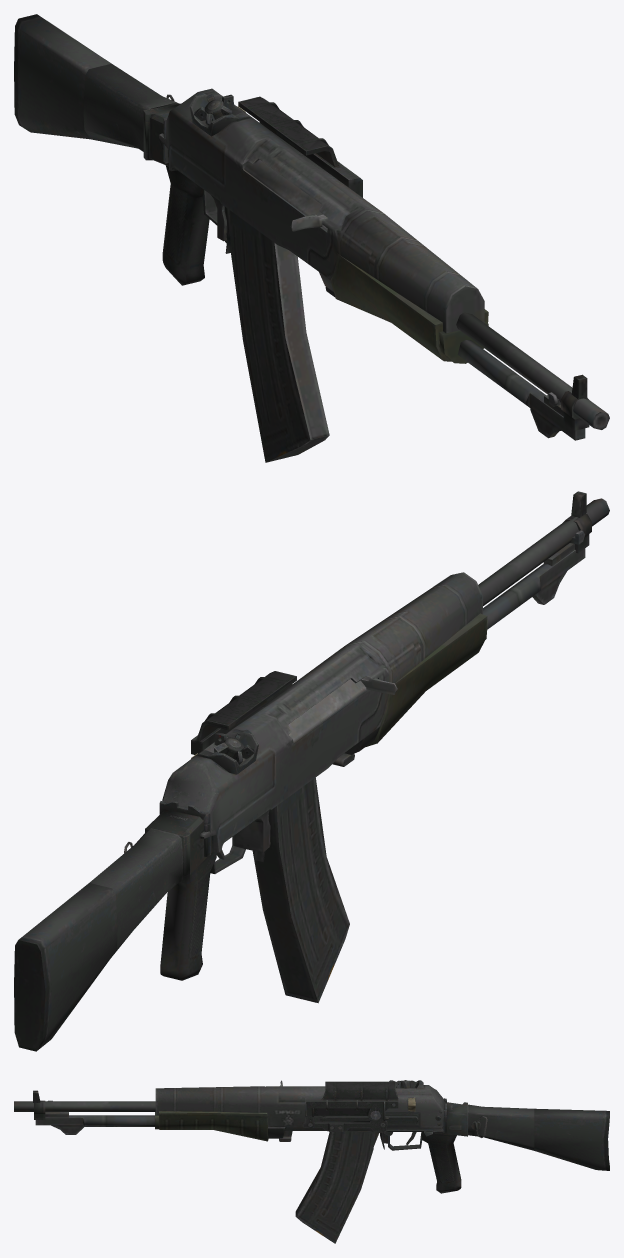
File: Assault_Rifle_pw_1045_AN94_dj_lod0_Body_LOD_(000543).glb
3 views of the same model, one above another, from view 1: azimuth 30°, elevation 25°; view 2: azimuth 150°, elevation 25°; view 3: azimuth 270°, elevation 25° (orthographic). The views are drawn at different scales.
Parts seen in each view (by area): view 1: pw_1045_AN94_dj_lod0; view 2: pw_1045_AN94_dj_lod0; view 3: pw_1045_AN94_dj_lod0.
Part boxes in pixels (x1,y1,x2,y2): pw_1045_AN94_dj_lod0: [14, 14, 609, 462]; pw_1045_AN94_dj_lod0: [14, 491, 609, 1051]; pw_1045_AN94_dj_lod0: [14, 1080, 609, 1243].
Size of the model in its own units: 0.1124 by 0.3479 by 1.16.
1 material, 1 textured.
